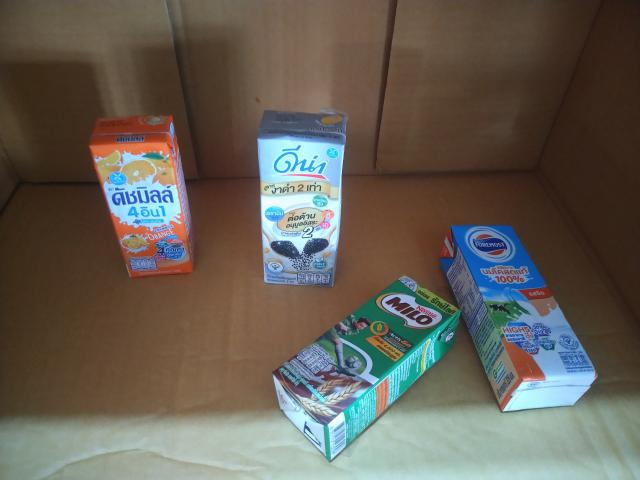drink_box: (240, 257, 489, 473), (424, 207, 620, 429), (74, 100, 211, 288), (239, 95, 358, 300)
